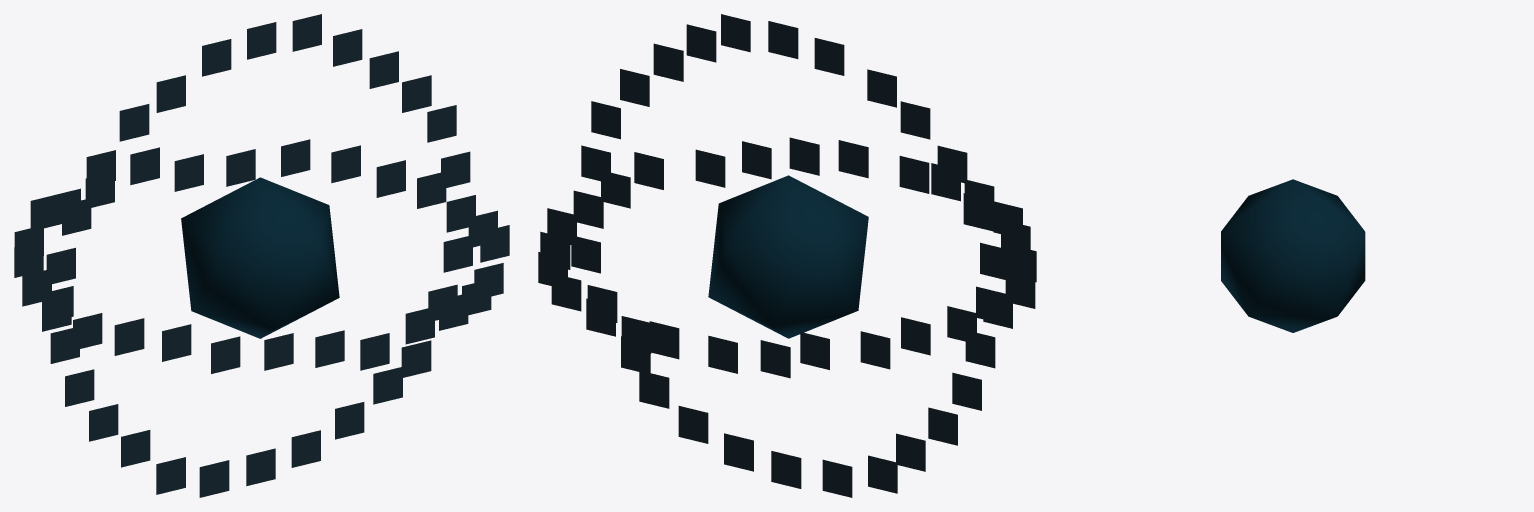
File: daemon_EXTRACT_DAEMON.glb
3 renders of one model, left to right at view 1: azimuth 30°, elevation 25°; view 2: azimuth 150°, elevation 25°; view 3: azimuth 270°, elevation 25°, orthographic. The views are drawn at different scales.
Parts seen in each view (by area): view 1: t_exd_pts, t_exd_0_shell2; view 2: t_exd_pts, t_exd_0_shell2; view 3: t_exd_0_shell2.
Part boxes in pixels (x1,y1,x2,y2): t_exd_pts: (14,14,509,497); t_exd_0_shell2: (181,177,339,338); t_exd_pts: (538,14,1036,497); t_exd_0_shell2: (708,175,868,338); t_exd_0_shell2: (1221,179,1365,332).
Size of the model in its own units: 0.0472 by 0.0474 by 0.0449.
